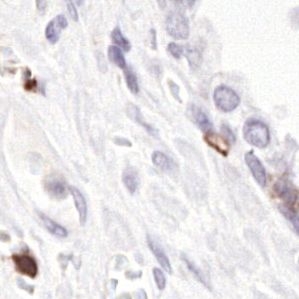Lymphocyte: (12, 249, 40, 279)
